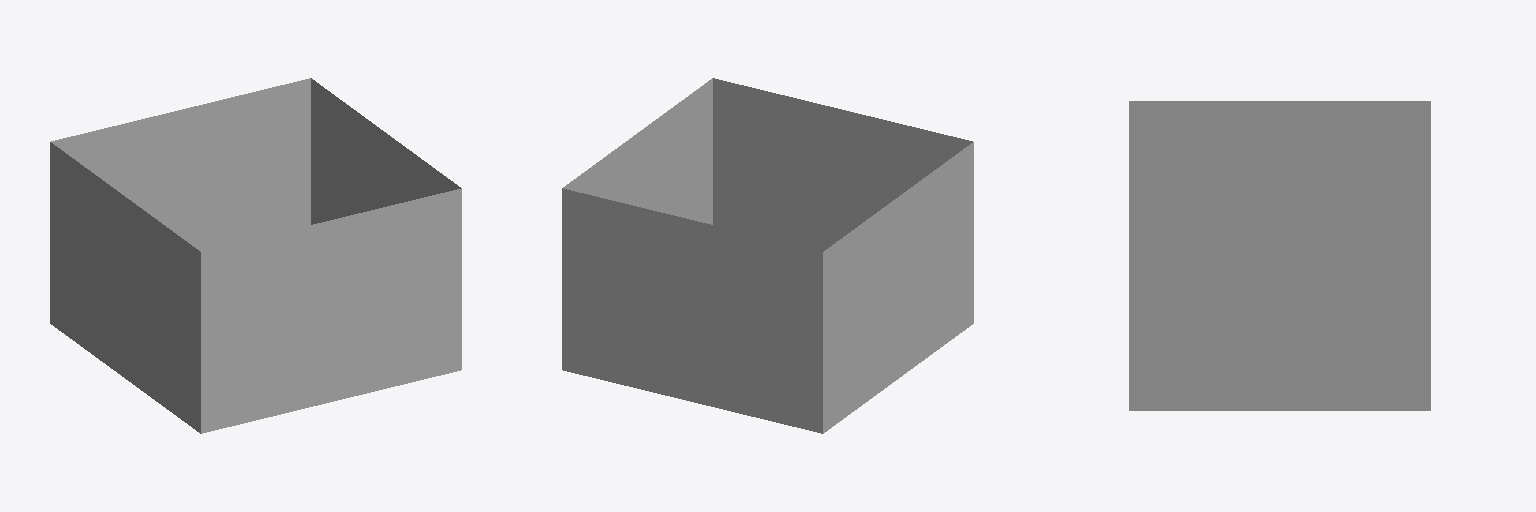
Rendered from eval-sphere-anisotropy.obj.
3 renders of one model, left to right at view 1: azimuth 30°, elevation 25°; view 2: azimuth 150°, elevation 25°; view 3: azimuth 270°, elevation 25°, orthographic.
Parts seen in each view (by area): view 1: Walls; view 2: Walls; view 3: Walls.
Part boxes in pixels (x1,y1,x2,y2): Walls: (50, 78, 461, 433); Walls: (562, 78, 973, 433); Walls: (1129, 101, 1430, 410).
Bounding box in the file's own units: 3 × 2 × 3.